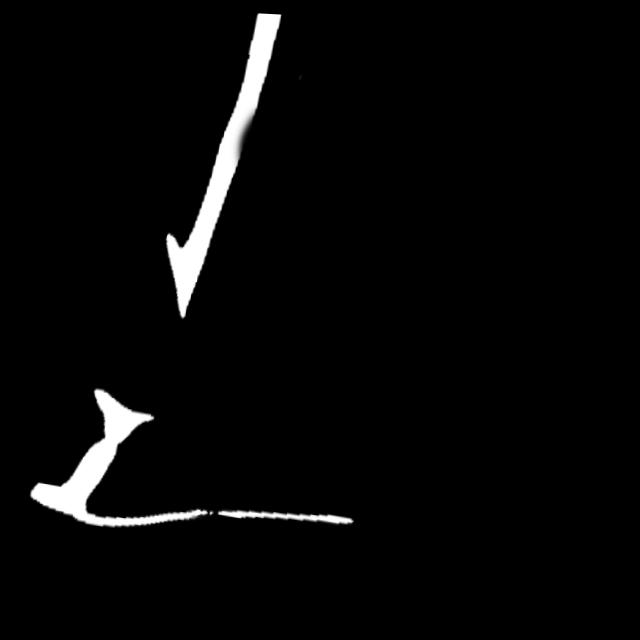inf: (207, 498, 231, 521)
